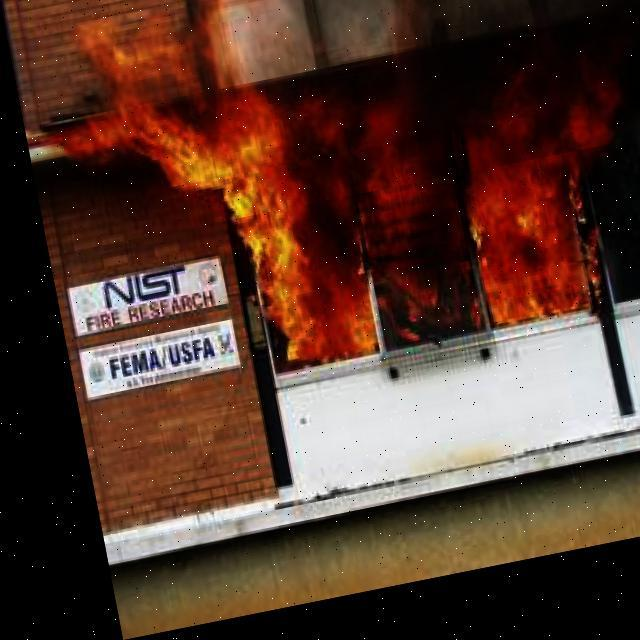Fire: (101, 0, 638, 406)
